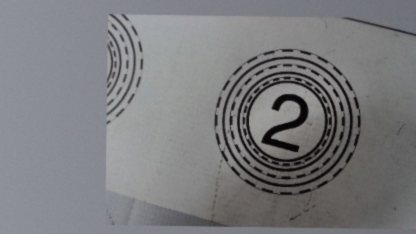2r: (207, 48, 363, 198)
